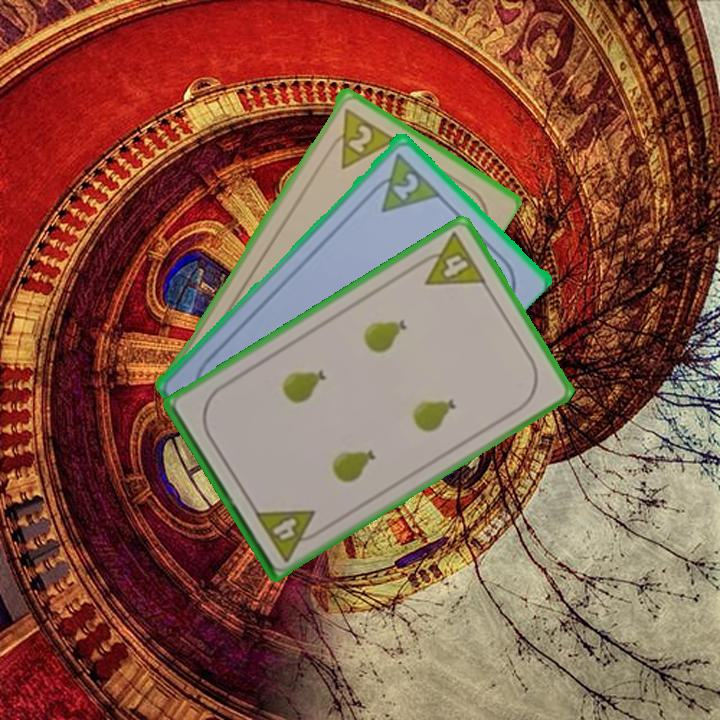2p: (323, 103, 397, 171), (388, 168, 422, 202)
4p: (411, 229, 489, 289), (251, 505, 327, 564)
